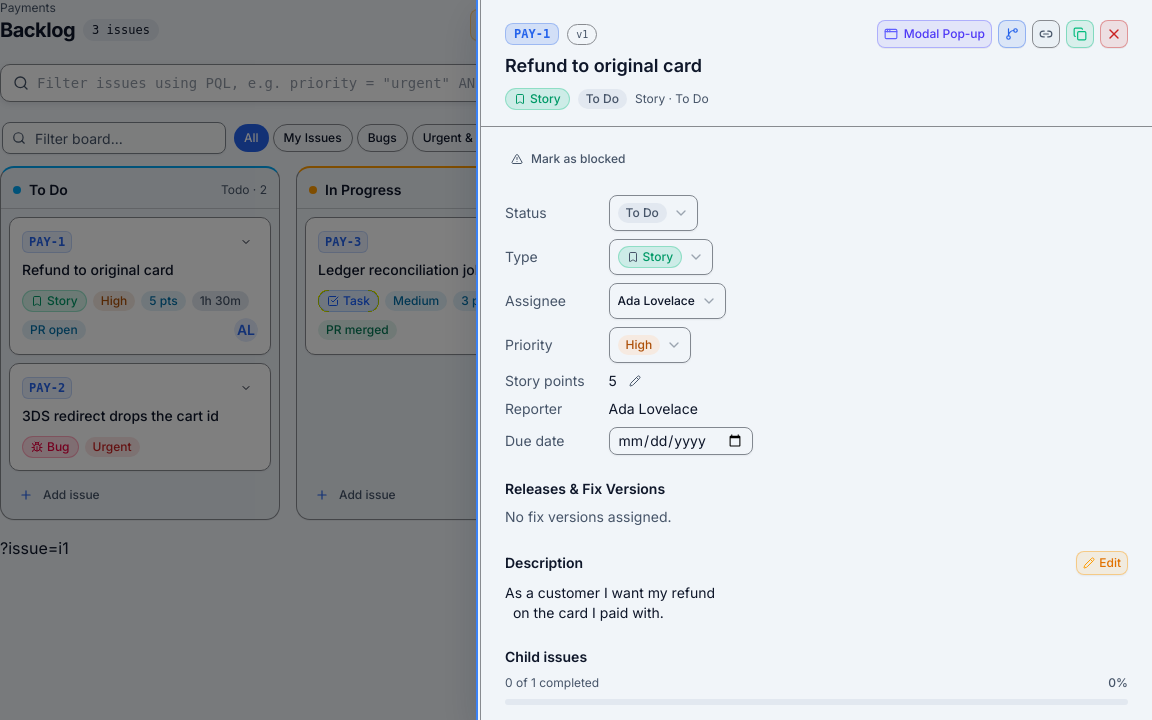
Test: <ListView> time › opens the issue a link names in ?issue=, and keeps the open issue in the URL
Check: the dialog "Refund to original card" is shown, box left=480, top=0, right=1151, bottom=719
Check: the text with test id "search" reads "?issue=i1", box left=0, top=538, right=69, bottom=558
Press Escape
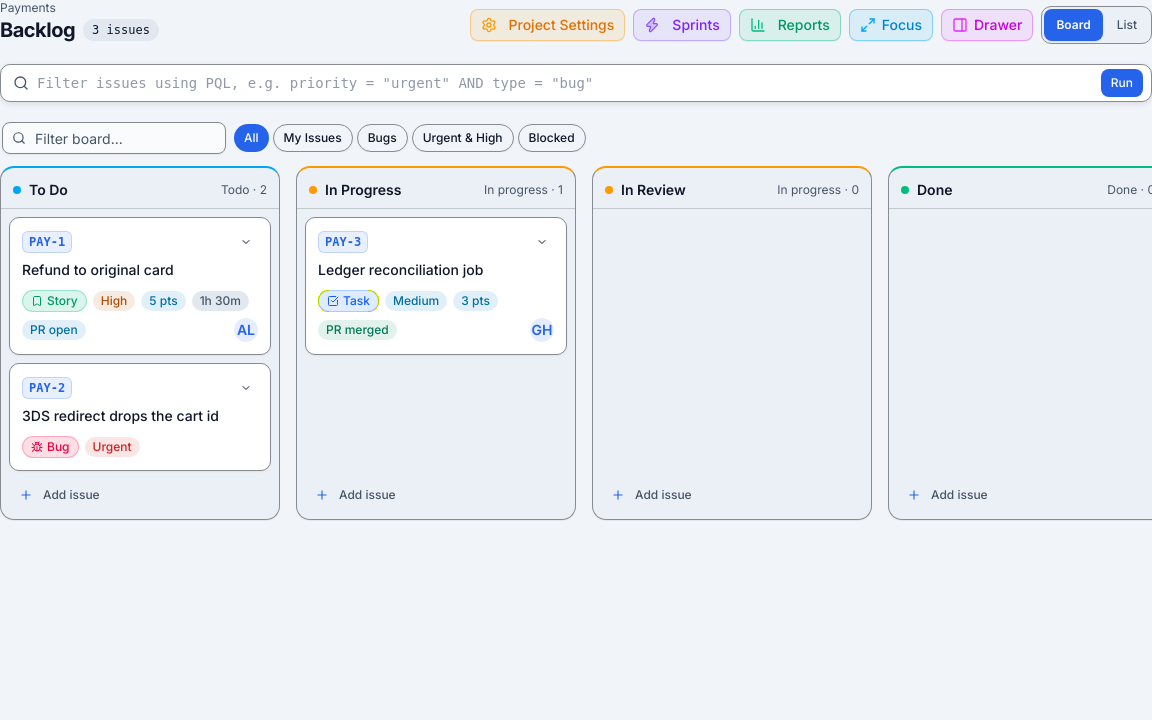
Click the button "3DS redirect drops the cart id" at {"x": 140, "y": 416}, box left=22, top=406, right=258, bottom=426
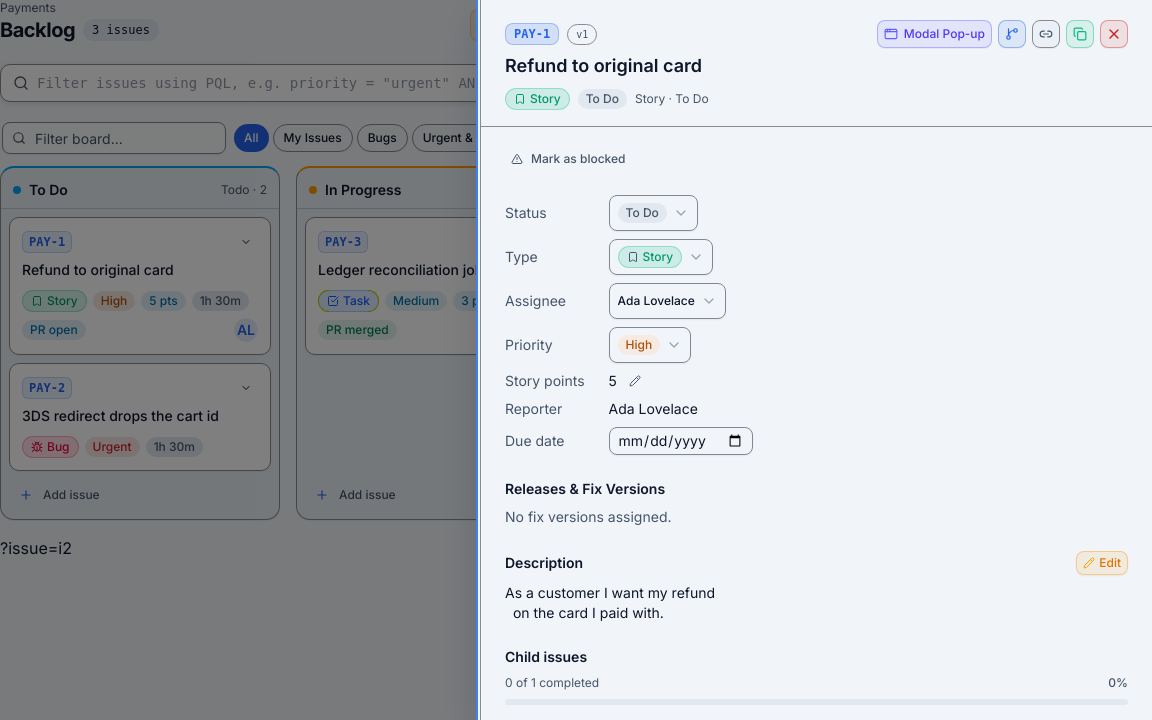
Check: the text with test id "search" reads "?issue=i2", box left=0, top=538, right=72, bottom=558
